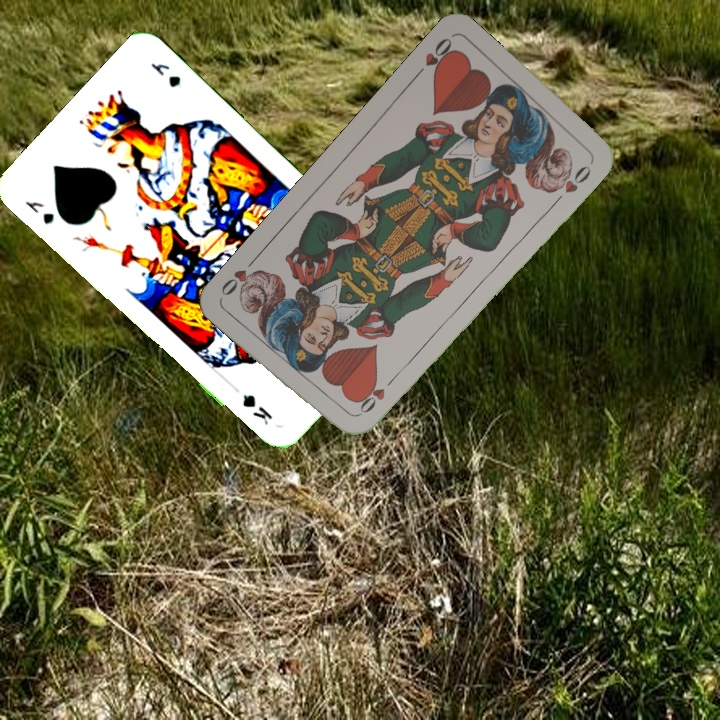GK: (21, 197, 57, 227)
HO: (410, 33, 458, 81), (354, 371, 399, 419)
